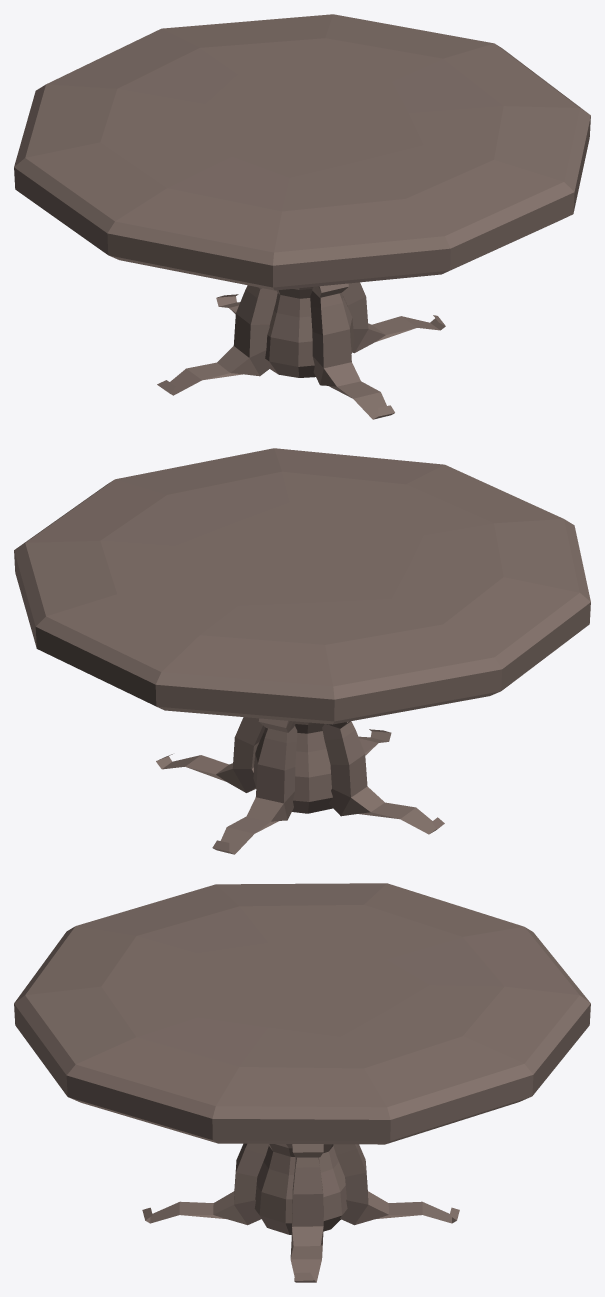
File: Round_Table.fbx
3 renders of one model, top to bottom at view 1: azimuth 30°, elevation 25°; view 2: azimuth 150°, elevation 25°; view 3: azimuth 270°, elevation 25°, orthographic. The views are drawn at different scales.
Parts seen in each view (by area): view 1: Round Table; view 2: Round Table; view 3: Round Table.
Part boxes in pixels (<box>): Round Table: <box>14,14,590,419</box>; Round Table: <box>14,448,590,854</box>; Round Table: <box>14,883,590,1282</box>.
Bounding box in the file's own units: 590 × 285 × 618.
